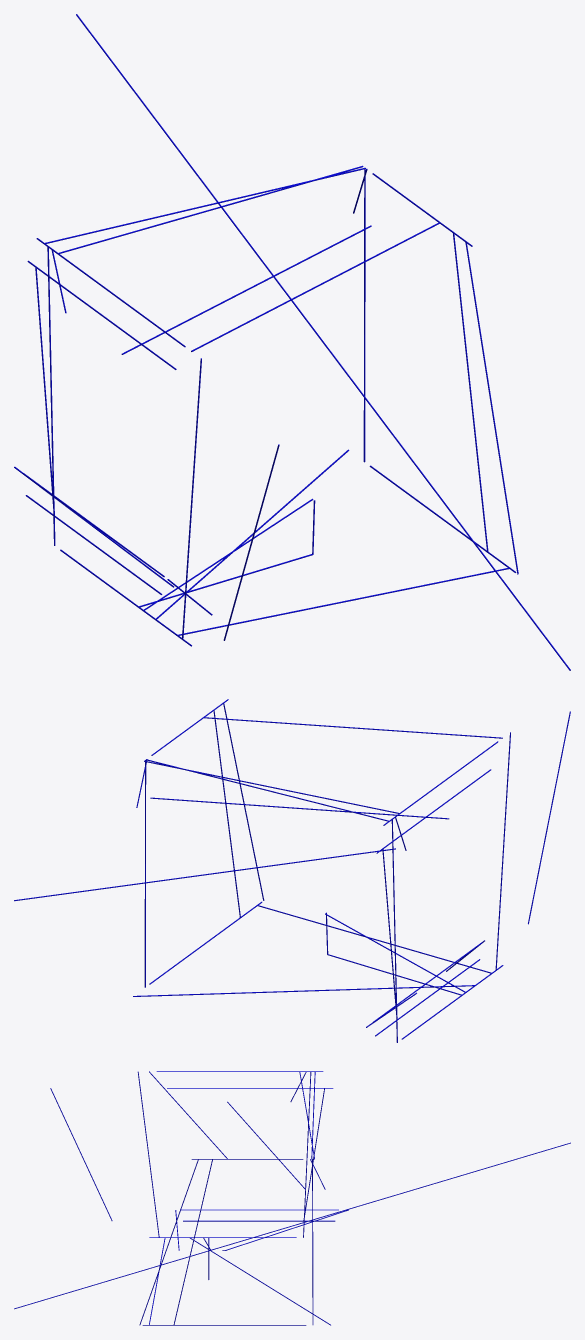
The model's file is corrected_3d_strokes.glb.
3 renders of one model, top to bottom at view 1: azimuth 30°, elevation 25°; view 2: azimuth 150°, elevation 25°; view 3: azimuth 270°, elevation 25°, orthographic. The views are drawn at different scales.
Parts seen in each view (by area): view 1: world; view 2: world; view 3: world.
Part boxes in pixels (bbox=[...]): world: bbox=[14, 14, 570, 670]; world: bbox=[14, 699, 570, 1042]; world: bbox=[14, 1071, 570, 1325].
Size of the model in its own units: 9.53 by 8.43 by 25.51.
